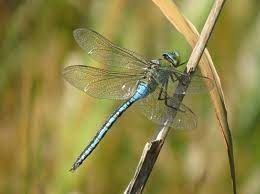insect: (58, 28, 215, 174)
